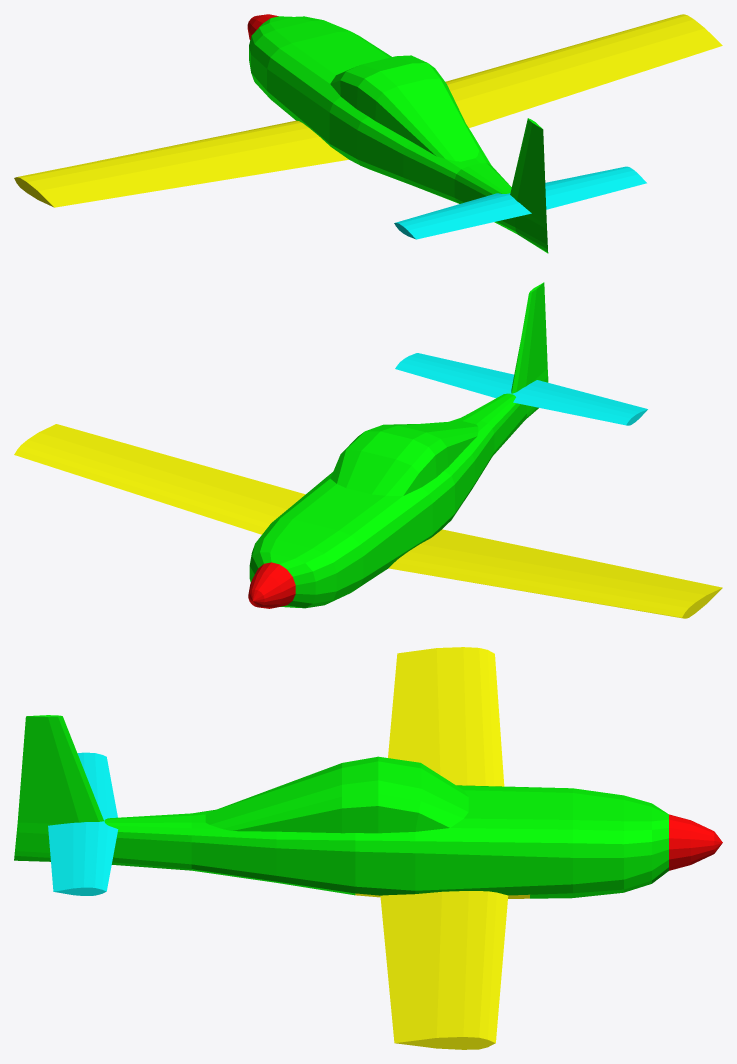
The picture shows the model from 3 angles, top to bottom: view 1: azimuth 30°, elevation 25°; view 2: azimuth 150°, elevation 25°; view 3: azimuth 270°, elevation 25°; orthographic projection. The views are drawn at different scales.
Visible parts, largest first — view 1: Fuselage, Wing, HorizontalStabilizer; view 2: Fuselage, Wing, HorizontalStabilizer; view 3: Fuselage, Wing, HorizontalStabilizer.
Boxes of the visible parts, x1,y1,x2,y2 form: Fuselage: (247,14,548,253); Wing: (14,14,722,207); HorizontalStabilizer: (394,166,646,239); Fuselage: (248,282,548,608); Wing: (14,424,722,618); HorizontalStabilizer: (395,353,647,425); Fuselage: (14,715,722,898); Wing: (355,647,529,1049); HorizontalStabilizer: (48,752,118,895).
Size of the model in its own units: 325 by 64.12 by 250.
